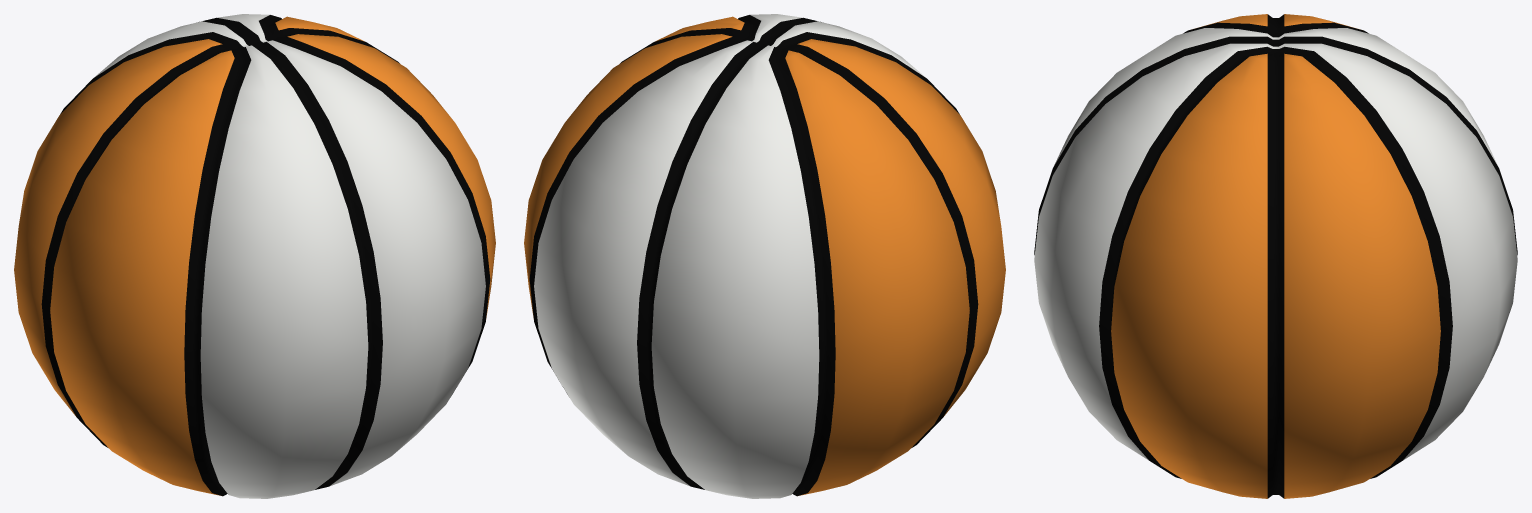
File: Basketball7.glb
3 views of the same model, side by side, from view 1: azimuth 30°, elevation 25°; view 2: azimuth 150°, elevation 25°; view 3: azimuth 270°, elevation 25° (orthographic).
Parts seen in each view (by area): view 1: Sphere.004; view 2: Sphere.004; view 3: Sphere.004.
Boxes of the visible parts, left/top/right/bottom form: Sphere.004: left=14, top=14, right=495, bottom=498; Sphere.004: left=524, top=14, right=1005, bottom=498; Sphere.004: left=1034, top=14, right=1517, bottom=498.
Bounding box in the file's own units: 1.99 × 1.96 × 1.99.
